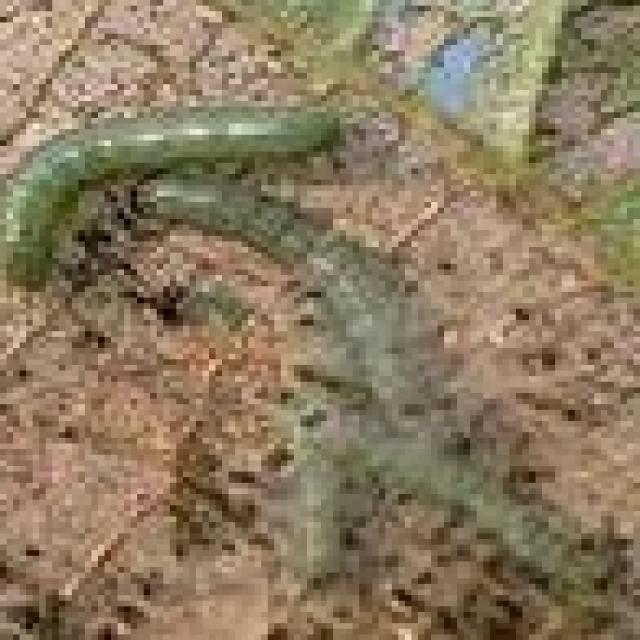BeetArmyWorm-Larva-: (123, 160, 480, 439), (0, 98, 346, 295)
